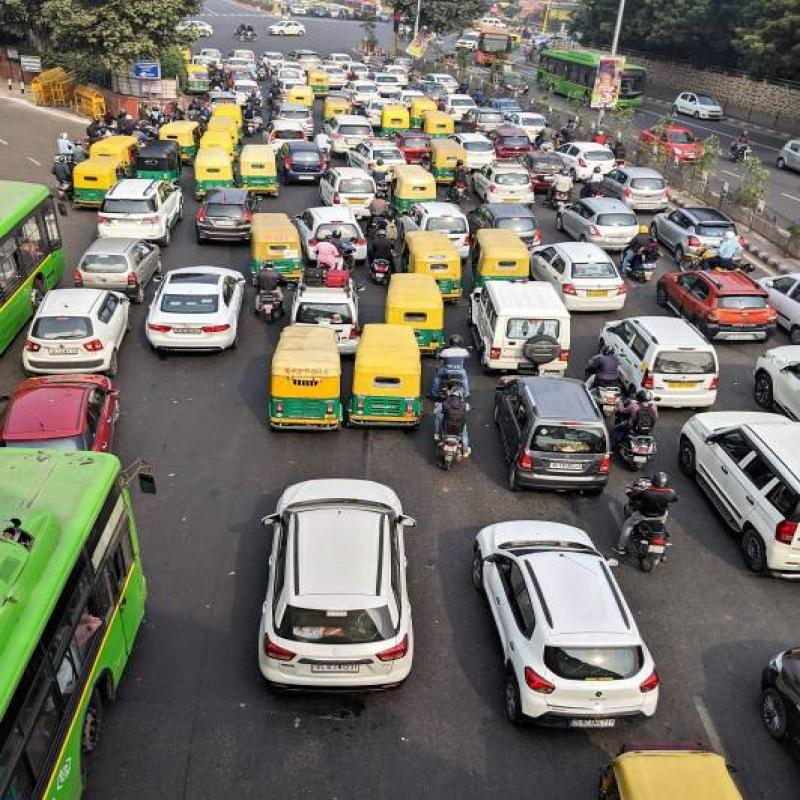auto: (246, 323, 360, 430), (354, 327, 453, 444), (382, 273, 470, 341), (407, 236, 477, 295), (384, 151, 442, 208)
car: (459, 528, 683, 723), (274, 469, 428, 660), (682, 408, 800, 561), (144, 264, 276, 354), (532, 234, 665, 320), (612, 323, 721, 408), (33, 284, 134, 373), (103, 179, 180, 248)
